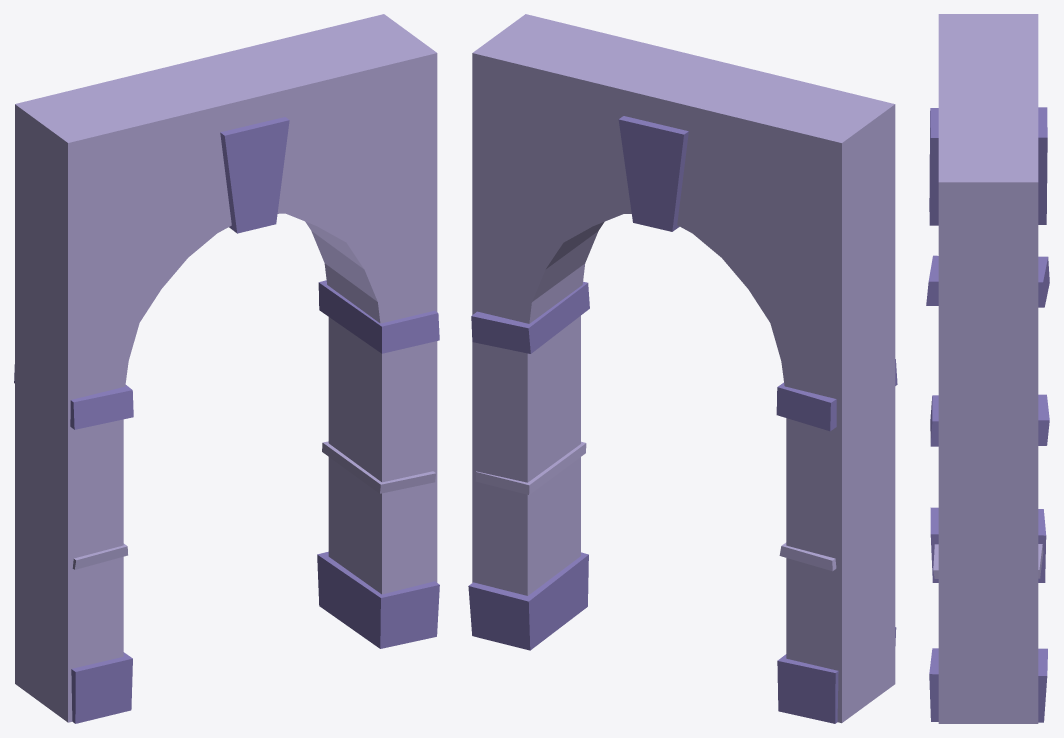
The model's file is door_arch.fbx.
The picture shows the model from 3 angles, left to right: view 1: azimuth 30°, elevation 25°; view 2: azimuth 150°, elevation 25°; view 3: azimuth 270°, elevation 25°; orthographic projection. The views are drawn at different scales.
Visible parts, largest first — view 1: door_arch; view 2: door_arch; view 3: door_arch.
Part boxes in pixels (left/top/right/bottom): door_arch: left=14, top=14, right=439, bottom=723; door_arch: left=468, top=14, right=897, bottom=723; door_arch: left=926, top=14, right=1049, bottom=723.
Bounding box in the file's own units: 2 × 3 × 0.621.
